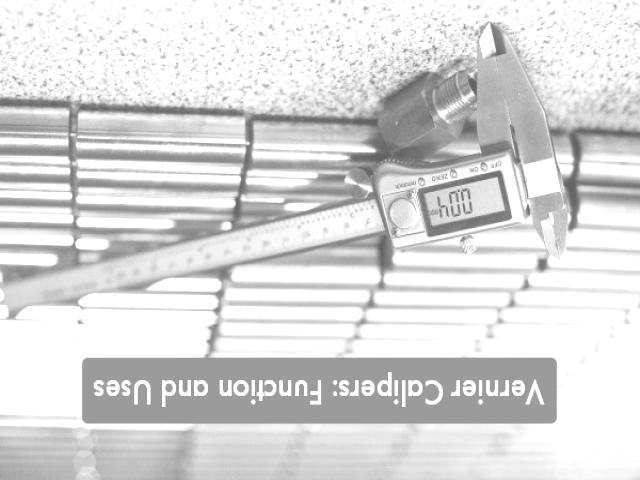Calipers: (4, 24, 569, 313)
